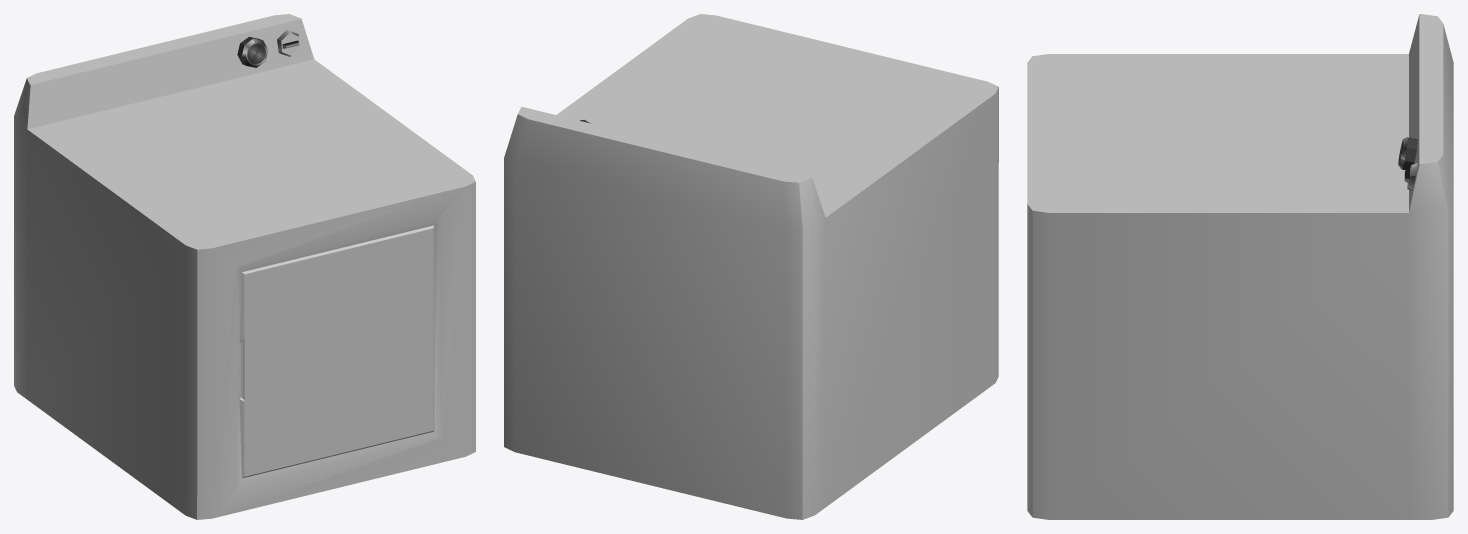
The model's file is Dryer_01.FBX.
3 views of the same model, side by side, from view 1: azimuth 30°, elevation 25°; view 2: azimuth 150°, elevation 25°; view 3: azimuth 270°, elevation 25° (orthographic). The views are drawn at different scales.
Parts seen in each view (by area): view 1: Dryer; view 2: Dryer; view 3: Dryer.
Part boxes in pixels (<box>): Dryer: <box>14,14,475,519</box>; Dryer: <box>504,14,998,519</box>; Dryer: <box>1027,14,1453,519</box>.
Bounding box in the file's own units: 150 × 155 × 170.
